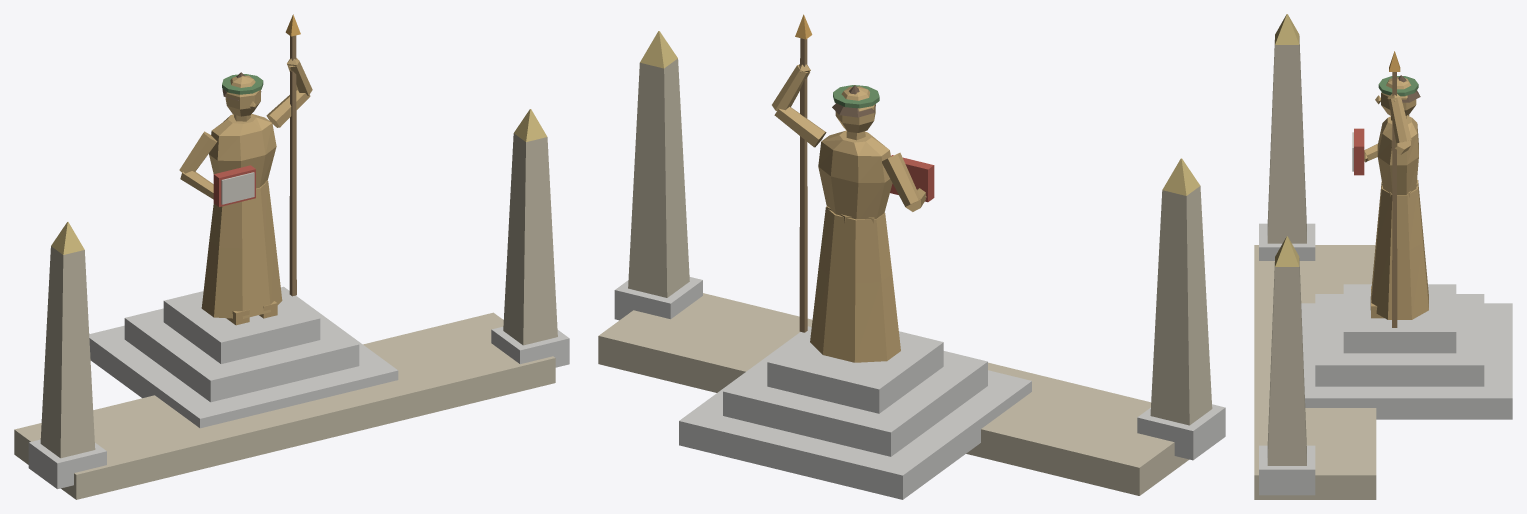
File: landmark.glb
3 renders of one model, left to right at view 1: azimuth 30°, elevation 25°; view 2: azimuth 150°, elevation 25°; view 3: azimuth 270°, elevation 25°, orthographic. The views are drawn at different scales.
Parts seen in each view (by area): view 1: LOD0; view 2: LOD0; view 3: LOD0.
Part boxes in pixels (x1,y1,x2,y2): LOD0: (14, 14, 569, 499); LOD0: (598, 14, 1225, 499); LOD0: (1254, 14, 1512, 499).
Size of what is drawn, in the model's own units: 1.24 by 0.8408 by 0.55.
